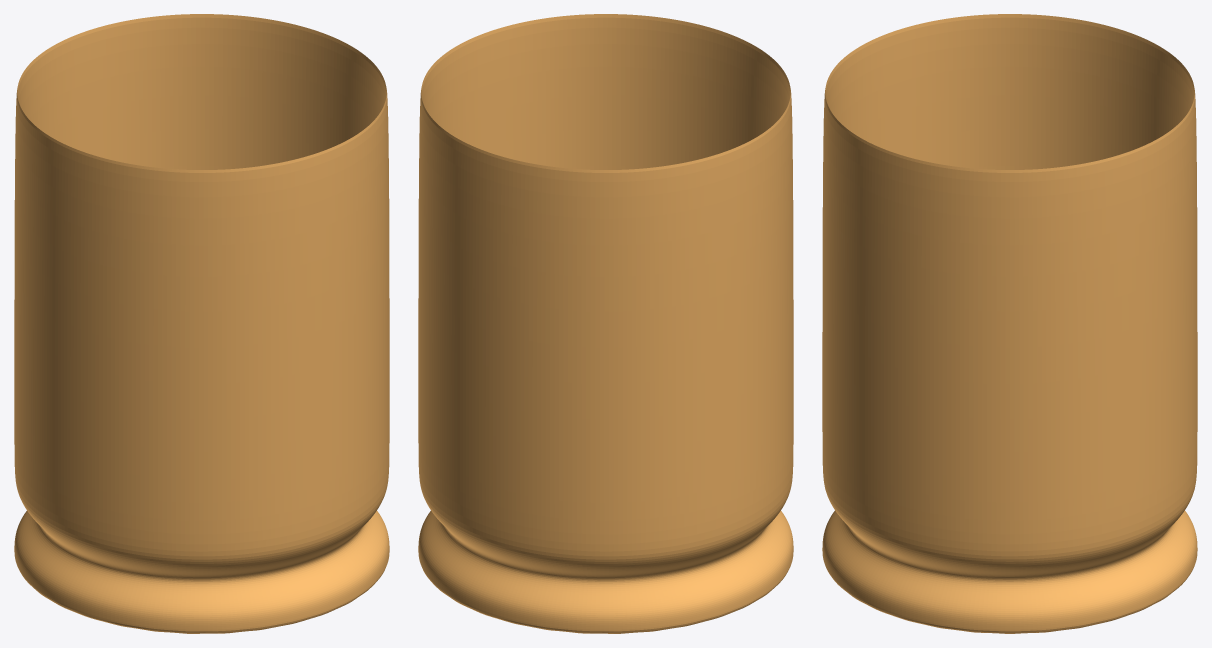
File: Casing9mm.fbx
3 renders of one model, left to right at view 1: azimuth 30°, elevation 25°; view 2: azimuth 150°, elevation 25°; view 3: azimuth 270°, elevation 25°, orthographic.
Visible parts, largest first — view 1: Cylinder; view 2: Cylinder; view 3: Cylinder.
Boxes of the visible parts, x1,y1,x2,y2 form: Cylinder: (14, 14, 389, 633); Cylinder: (418, 14, 793, 633); Cylinder: (822, 14, 1197, 633).
Bounding box in the file's own units: 41.73 × 57.93 × 41.73.
